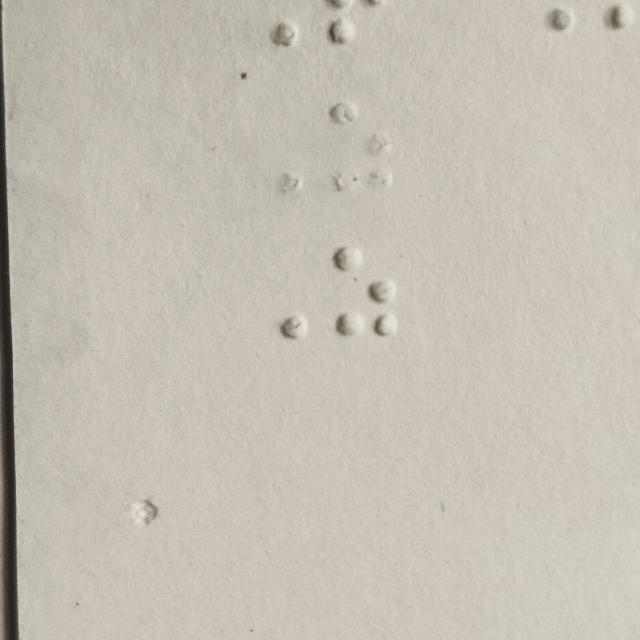Z: (336, 246, 395, 337)
capital: (249, 247, 308, 338)
